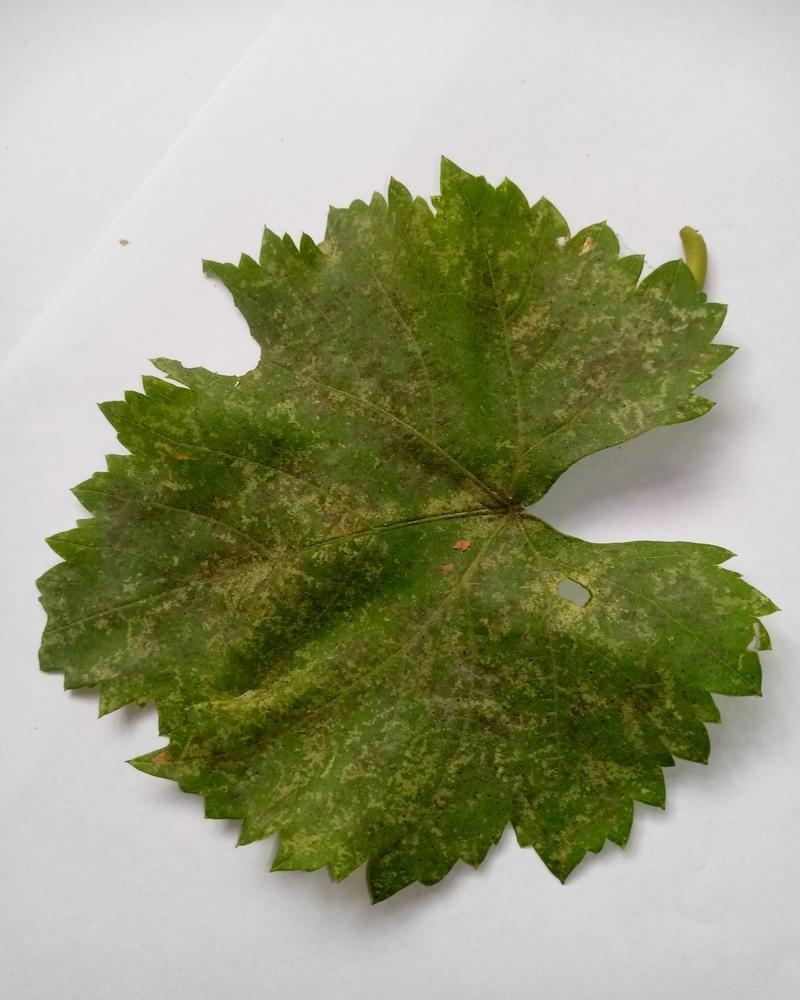Powdery-Mildew: (431, 488, 686, 658), (231, 225, 436, 414), (311, 675, 497, 863), (183, 450, 388, 620), (509, 242, 708, 417), (71, 523, 244, 697), (602, 692, 665, 754)
